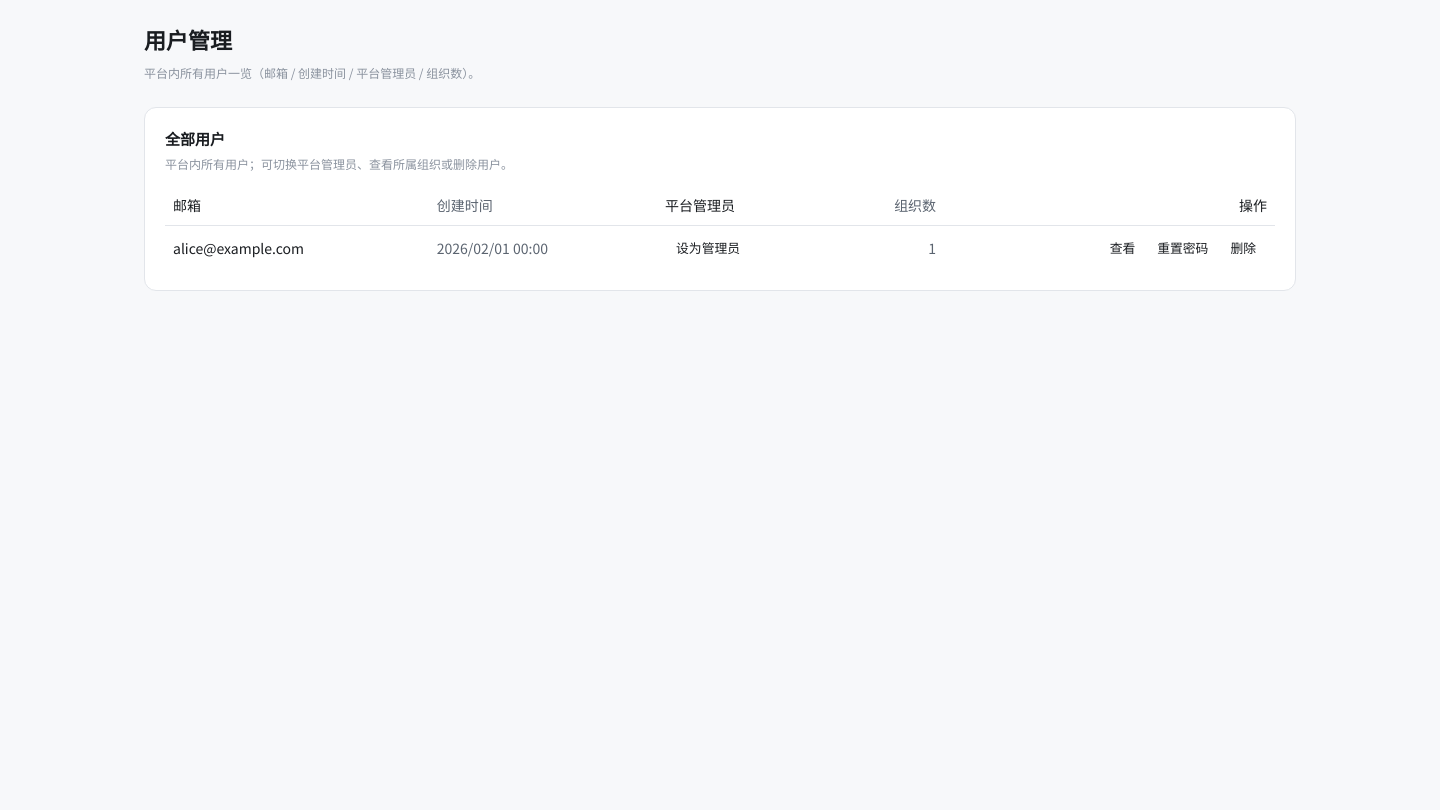
AllUsersPage › shows 不能删除自己 toast on self-delete 409
Click the button with aria-label "删除 alice@example.com": (1243, 248) [1219,234,1267,262]
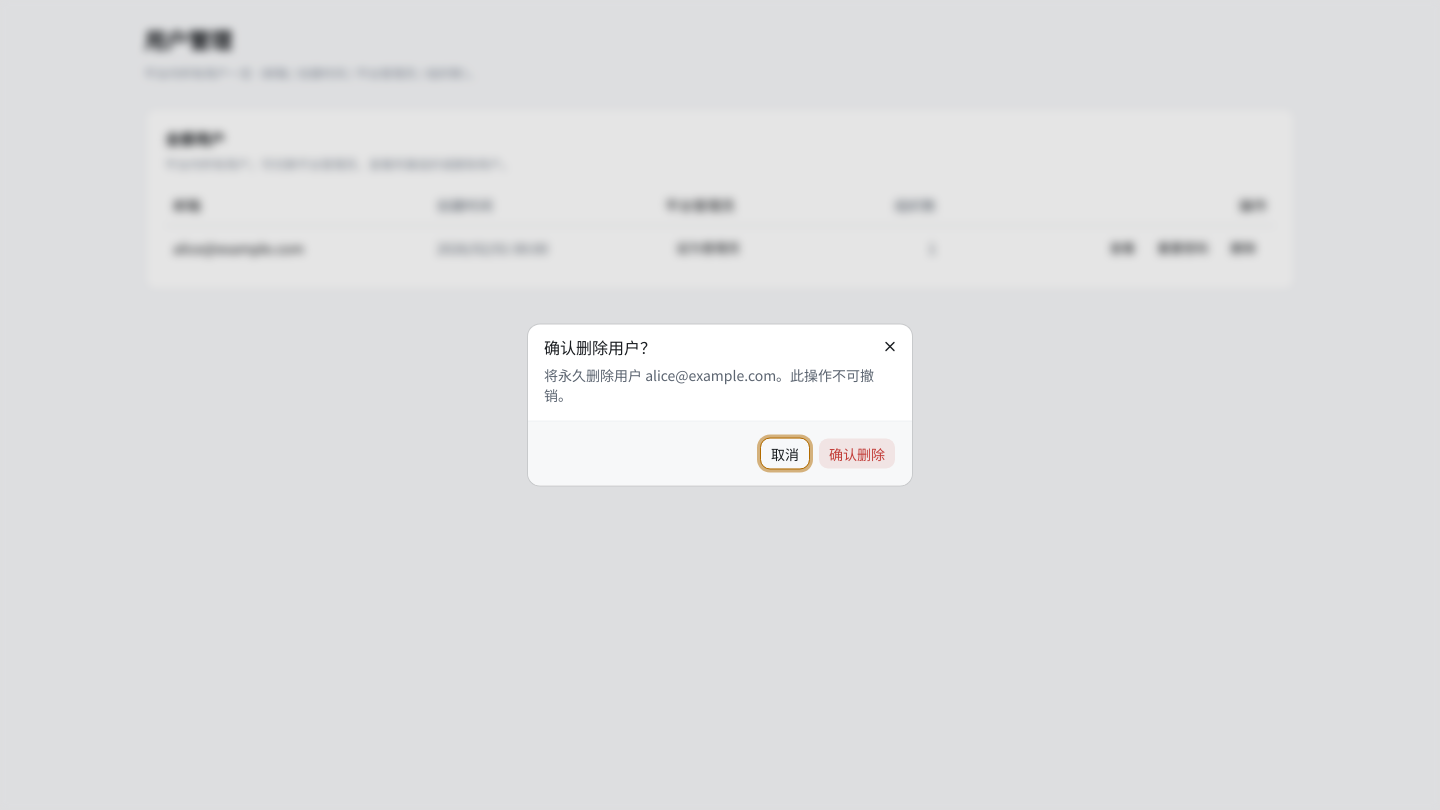
Click the button "确认删除": (857, 454) [818,438,896,470]
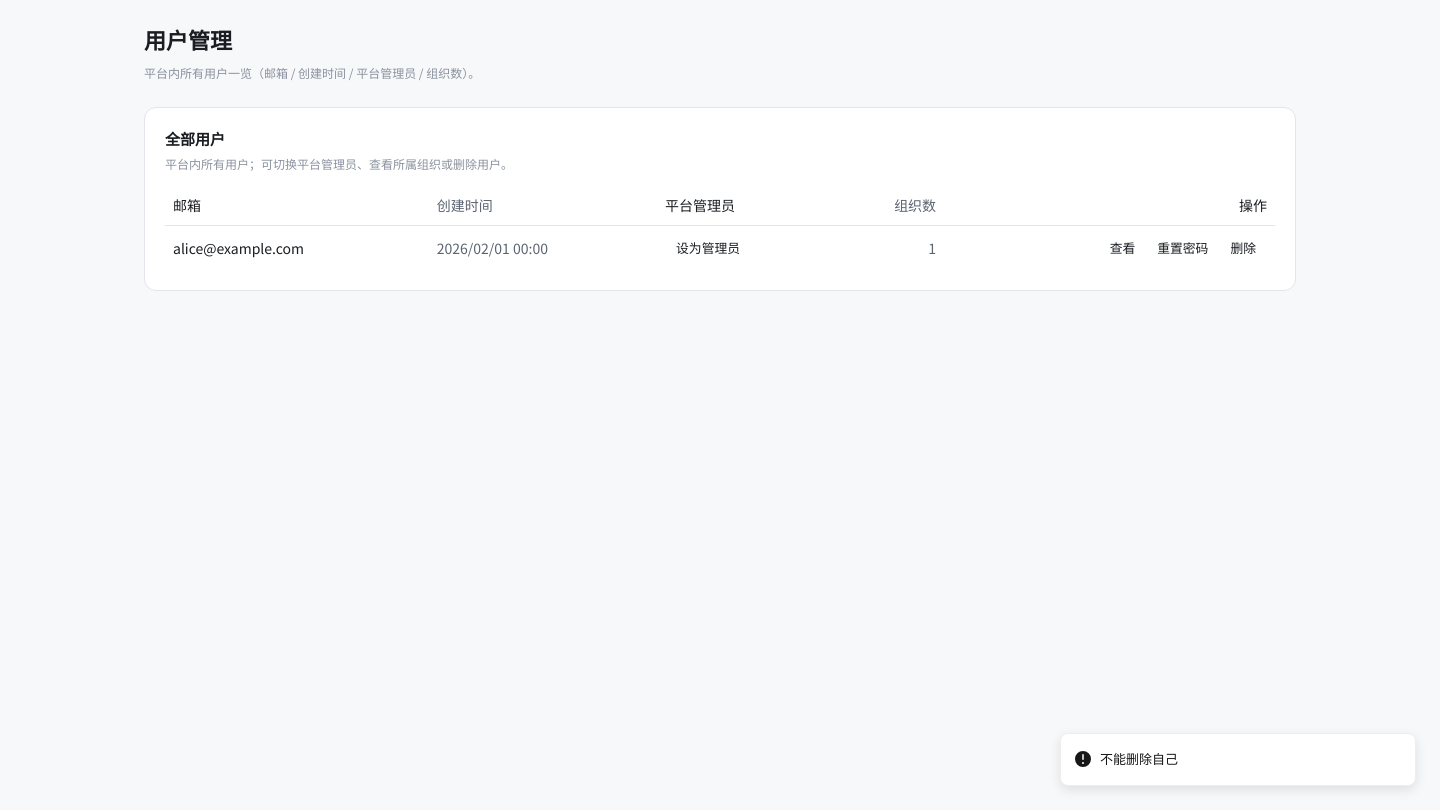
Check: the text "不能删除自己" is shown, box [1100,750,1178,769]
